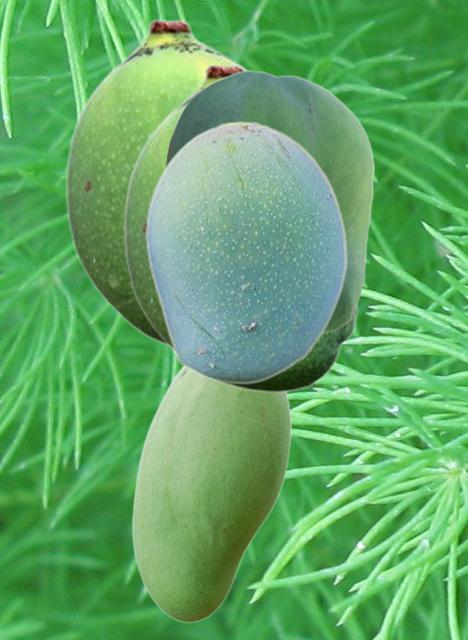green_mango: (123, 63, 358, 393), (65, 18, 250, 350), (165, 70, 373, 332), (144, 120, 347, 384), (131, 366, 290, 622)
